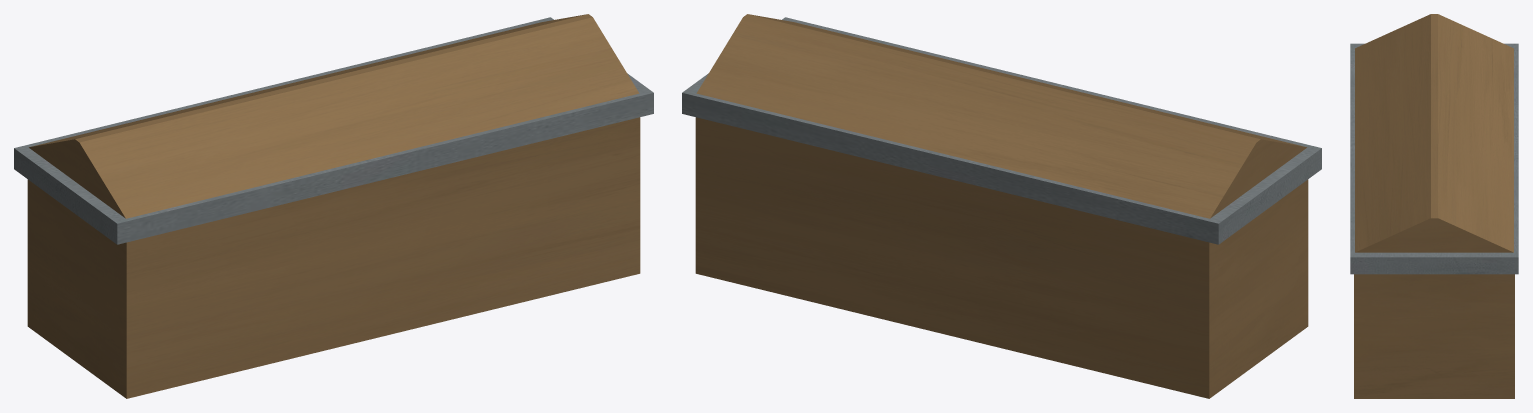
Rendered from BumperRailingx3.glb.
3 renders of one model, left to right at view 1: azimuth 30°, elevation 25°; view 2: azimuth 150°, elevation 25°; view 3: azimuth 270°, elevation 25°, orthographic. The views are drawn at different scales.
Parts seen in each view (by area): view 1: BumperRailingx3; view 2: BumperRailingx3; view 3: BumperRailingx3.
Boxes of the visible parts, x1,y1,x2,y2 form: BumperRailingx3: [14, 14, 653, 398]; BumperRailingx3: [682, 14, 1321, 398]; BumperRailingx3: [1350, 14, 1518, 398].
Size of the model in its own units: 6.27 by 2.48 by 2.09.
Materials: 2 (2 with a texture image).
